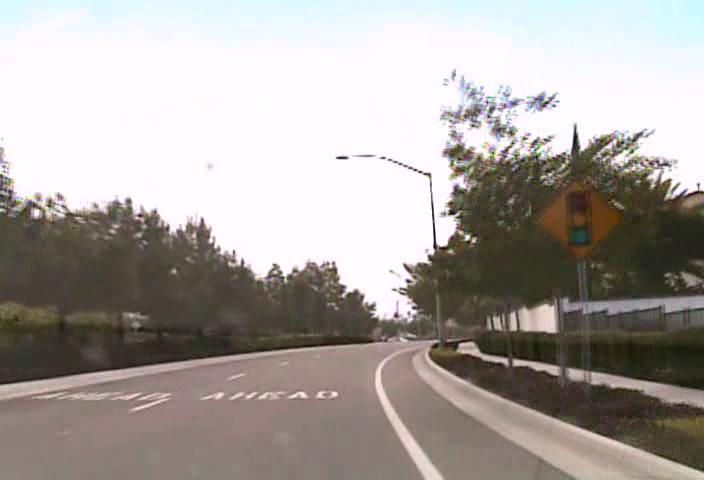signalAhead: (534, 173, 624, 261)
